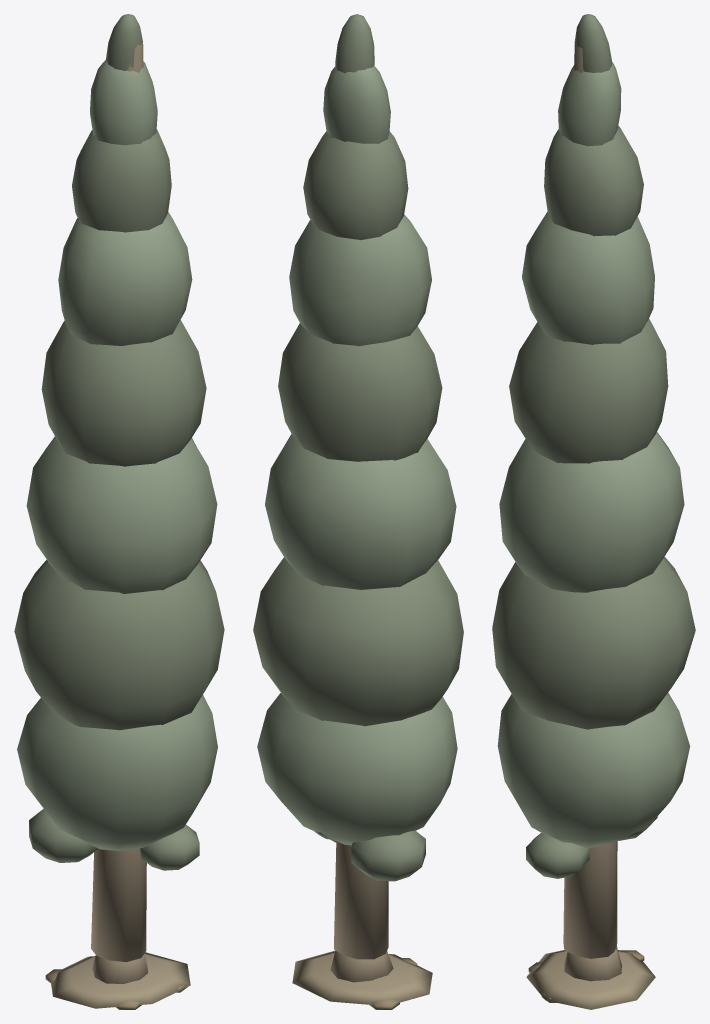
File: olive_or_cypress.glb
The picture shows the model from 3 angles, left to right: view 1: azimuth 30°, elevation 25°; view 2: azimuth 150°, elevation 25°; view 3: azimuth 270°, elevation 25°; orthographic projection.
Parts seen in each view (by area): view 1: Cypress_Foliage, Cypress_Wood, Cypress_Ground; view 2: Cypress_Foliage, Cypress_Wood, Cypress_Ground; view 3: Cypress_Foliage, Cypress_Wood, Cypress_Ground.
Part boxes in pixels (x1,y1,x2,y2): Cypress_Foliage: (14, 14, 224, 870); Cypress_Wood: (91, 43, 148, 983); Cypress_Ground: (45, 952, 190, 1009); Cypress_Foliage: (253, 14, 463, 881); Cypress_Wood: (330, 841, 393, 982); Cypress_Ground: (292, 950, 432, 1009); Cypress_Foliage: (492, 14, 695, 878); Cypress_Wood: (563, 43, 621, 981); Cypress_Ground: (526, 950, 655, 1009).
Size of the model in its own units: 1.17 by 5.78 by 1.1.
